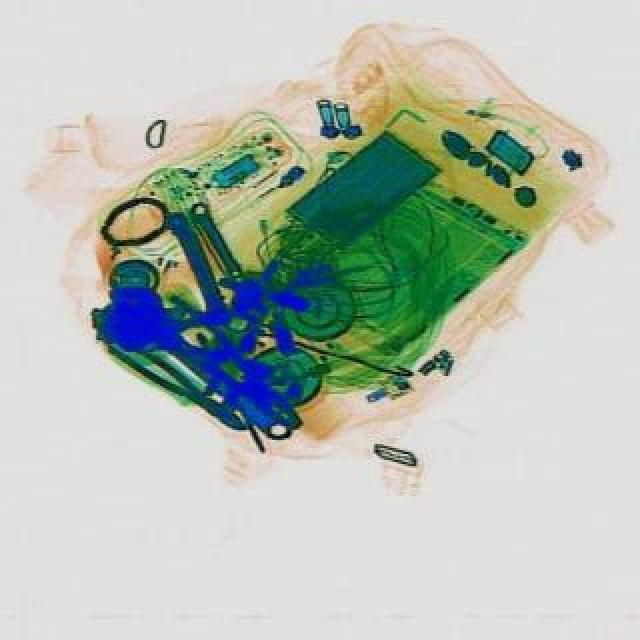scissors: (84, 268, 308, 460)
wrench: (102, 328, 248, 440)
